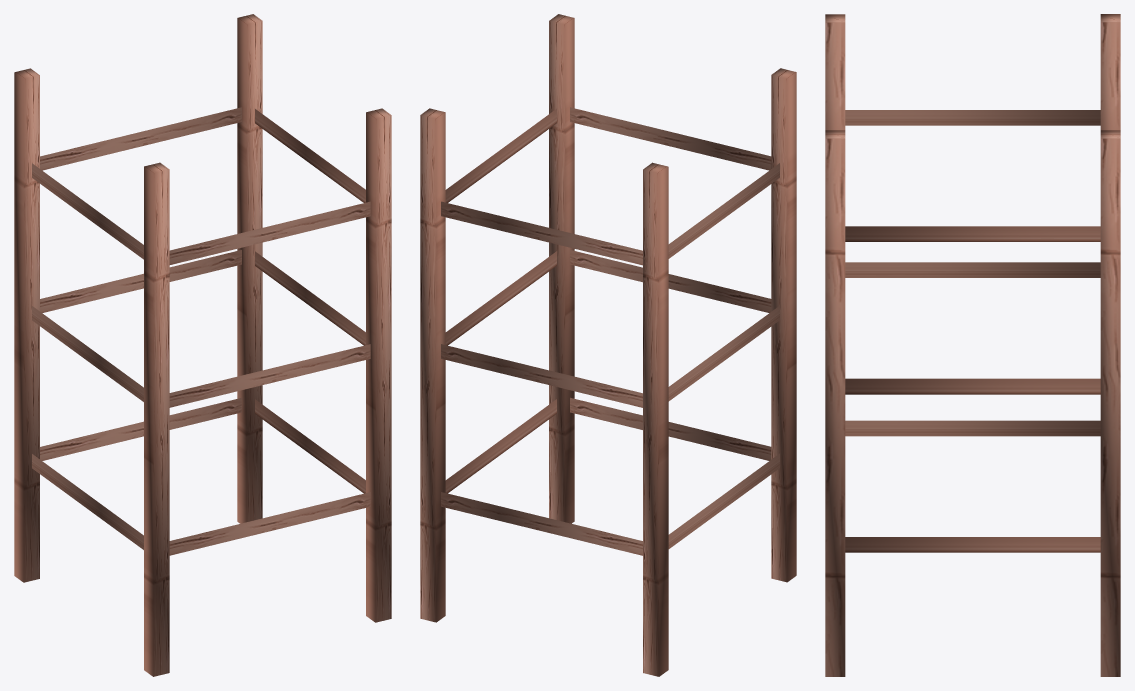
File: PotArbres.fbx
3 views of the same model, side by side, from view 1: azimuth 30°, elevation 25°; view 2: azimuth 150°, elevation 25°; view 3: azimuth 270°, elevation 25° (orthographic). The views are drawn at different scales.
Parts seen in each view (by area): view 1: Plane.042; view 2: Plane.042; view 3: Plane.042.
Part boxes in pixels (box(x1,y1,x2,y2)): Plane.042: box(14, 14, 391, 676); Plane.042: box(420, 14, 796, 676); Plane.042: box(825, 14, 1120, 676).
Size of the model in its own units: 56.35 by 113 by 56.46.
